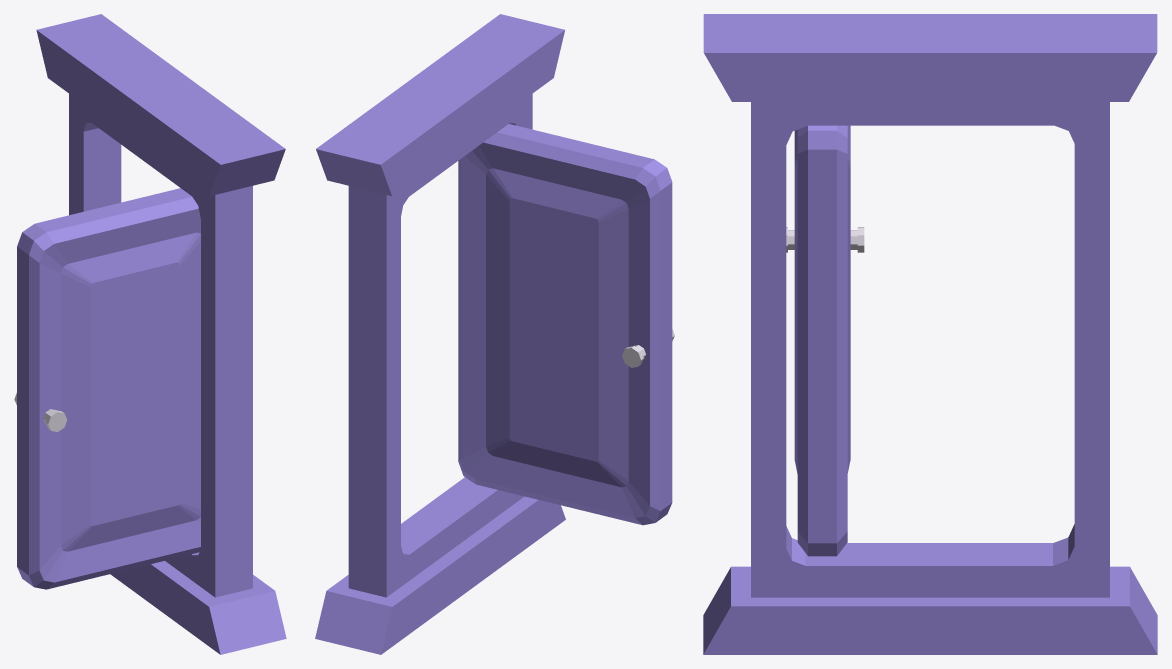
Rendered from Env_Pintu_02a.fbx.
The picture shows the model from 3 angles, left to right: view 1: azimuth 30°, elevation 25°; view 2: azimuth 150°, elevation 25°; view 3: azimuth 270°, elevation 25°; orthographic projection. The views are drawn at different scales.
Parts seen in each view (by area): view 1: Pintu Buka; view 2: Pintu Buka; view 3: Pintu Buka.
Part boxes in pixels (x1=…): Pintu Buka: x1=14, y1=14, x2=286, y2=654; Pintu Buka: x1=315, y1=14, x2=674, y2=654; Pintu Buka: x1=703, y1=14, x2=1157, y2=654.
Size of the model in its own units: 170 by 370 by 253.
